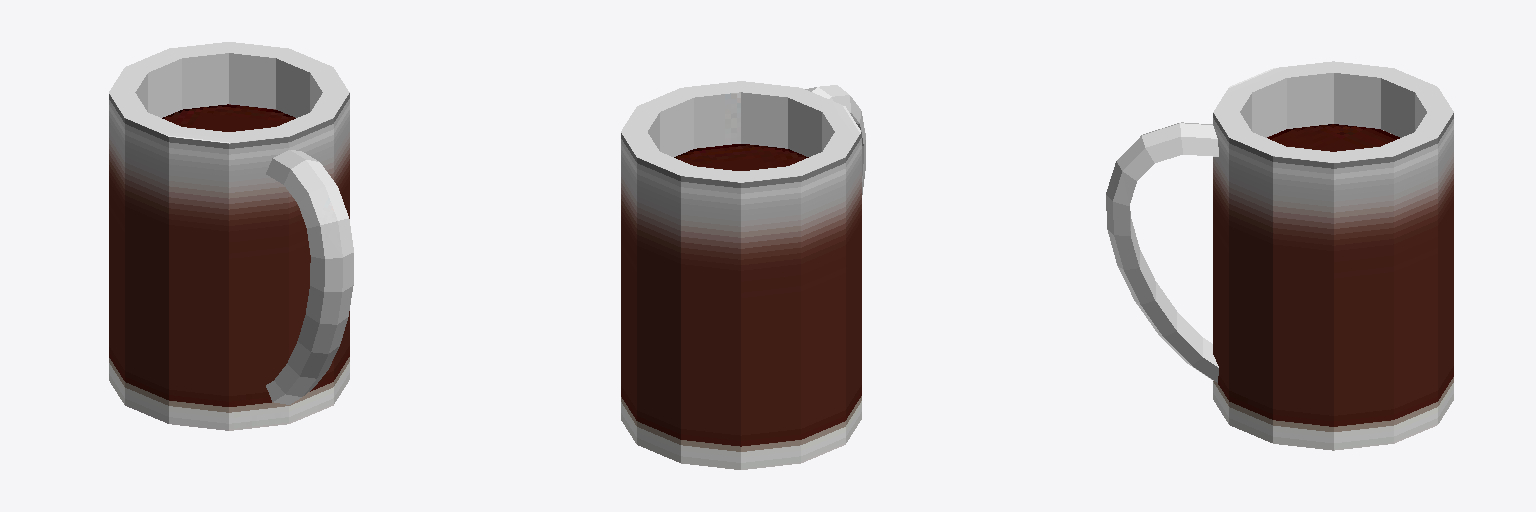
The picture shows the model from 3 angles: view 1: azimuth 30°, elevation 25°; view 2: azimuth 150°, elevation 25°; view 3: azimuth 270°, elevation 25°; orthographic projection.
Visible parts, largest first — view 1: BezierCurve; view 2: BezierCurve; view 3: BezierCurve.
Boxes of the visible parts, <box> form: BezierCurve: <box>109,42,353,430</box>; BezierCurve: <box>621,81,865,469</box>; BezierCurve: <box>1106,61,1453,450</box>.
Bounding box in the file's own units: 1.52 × 2 × 2.2.
1 materials, 1 textured.